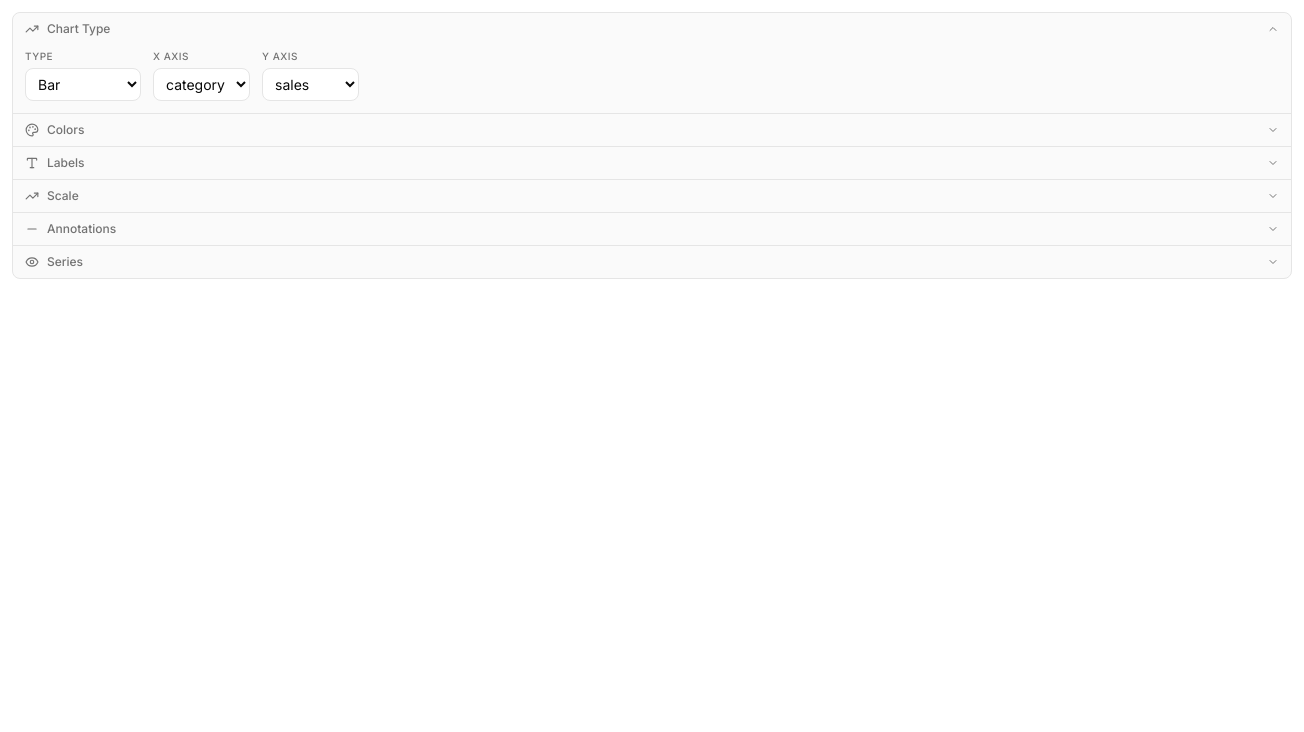
ChartEditor › Label editing › provides legend label editing for traces
Click the button with test id "section-toggle-labels" at (66, 162), box [13, 147, 1291, 179]
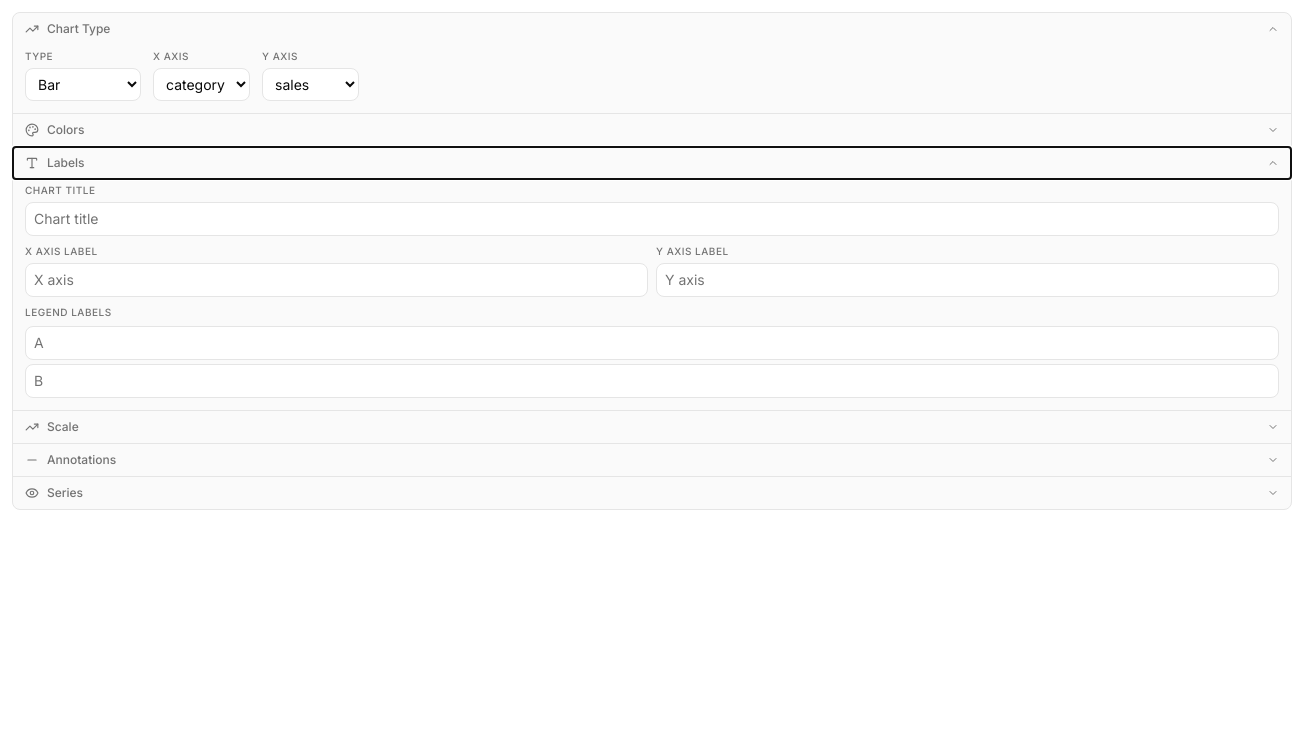
Result: the field with test id "legend-label-0" is shown at [25, 326, 1279, 360]
Result: the field with test id "legend-label-1" is shown at [25, 364, 1279, 398]
